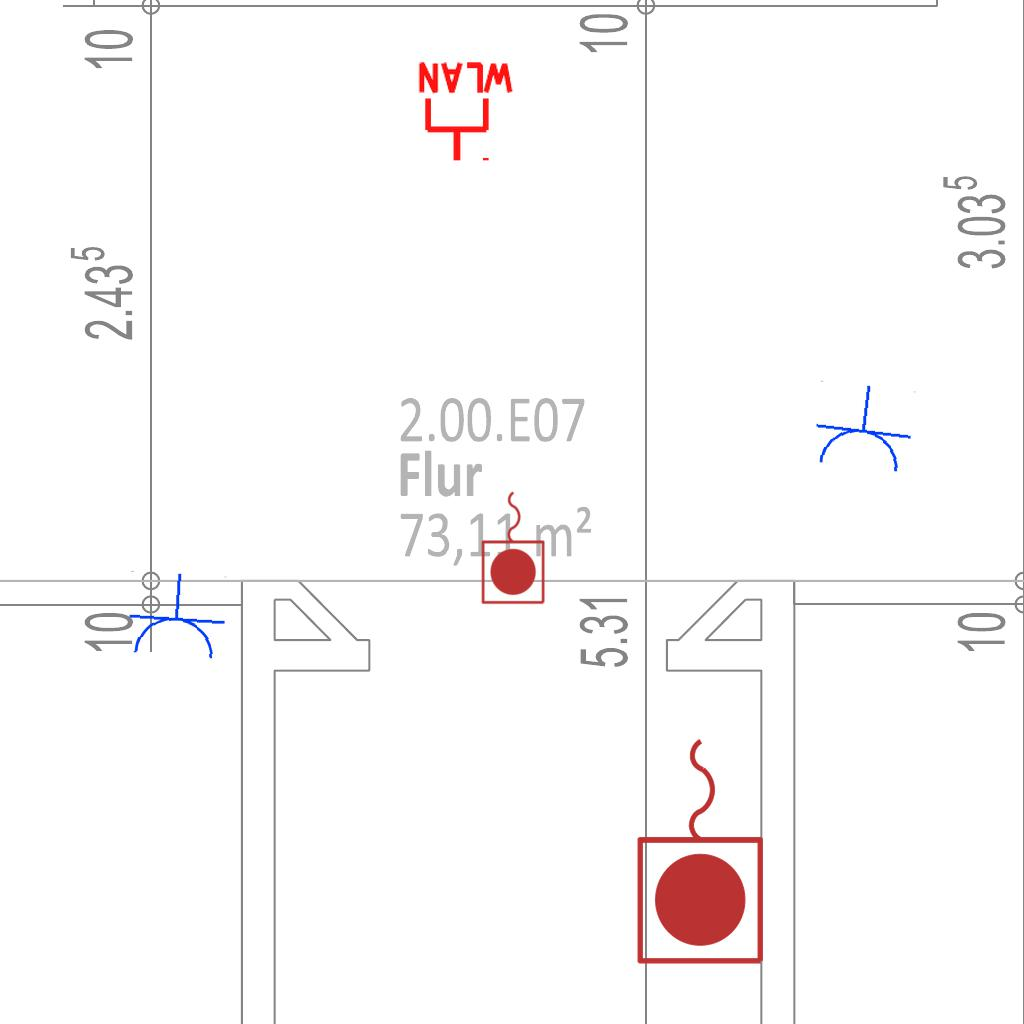Schukosteckdose_einfach: (808, 379, 918, 478), (123, 569, 229, 664)
WLAN: (414, 60, 518, 165)
Zugtaster: (630, 728, 774, 972), (478, 486, 550, 608)
